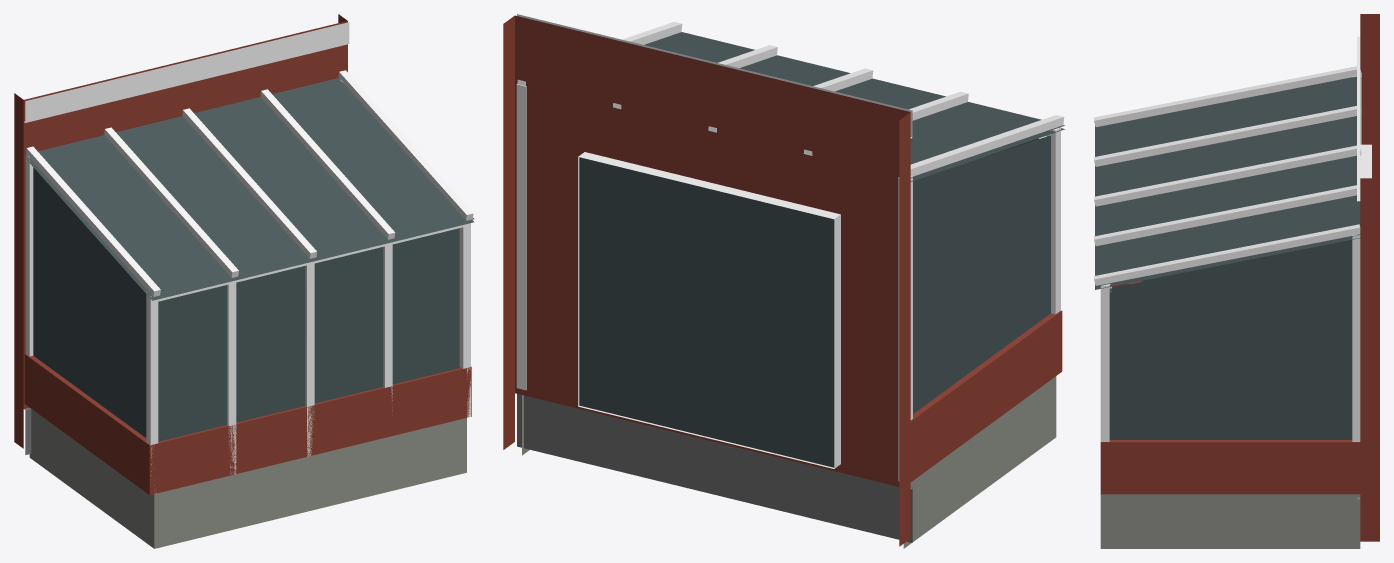
File: base-stair3.fbx
The picture shows the model from 3 angles, left to right: view 1: azimuth 30°, elevation 25°; view 2: azimuth 150°, elevation 25°; view 3: azimuth 270°, elevation 25°; orthographic projection. The views are drawn at different scales.
Parts seen in each view (by area): view 1: a2000/200/base-stair; view 2: a2000/200/base-stair; view 3: a2000/200/base-stair.
Boxes of the visible parts, x1=… form: a2000/200/base-stair: x1=14, y1=14, x2=473, y2=548; a2000/200/base-stair: x1=503, y1=14, x2=1064, y2=548; a2000/200/base-stair: x1=1094, y1=14, x2=1379, y2=548.
Size of the model in its own units: 3.4 by 3.6 by 2.5.
